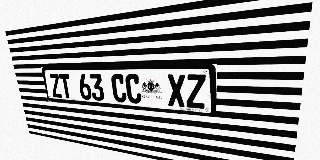3: (89, 74, 105, 101)
6: (77, 74, 92, 100)
C: (125, 74, 142, 104), (111, 74, 127, 103)
T: (59, 74, 73, 99)
X: (167, 74, 186, 107)
Z: (186, 74, 206, 109), (49, 74, 63, 98)
